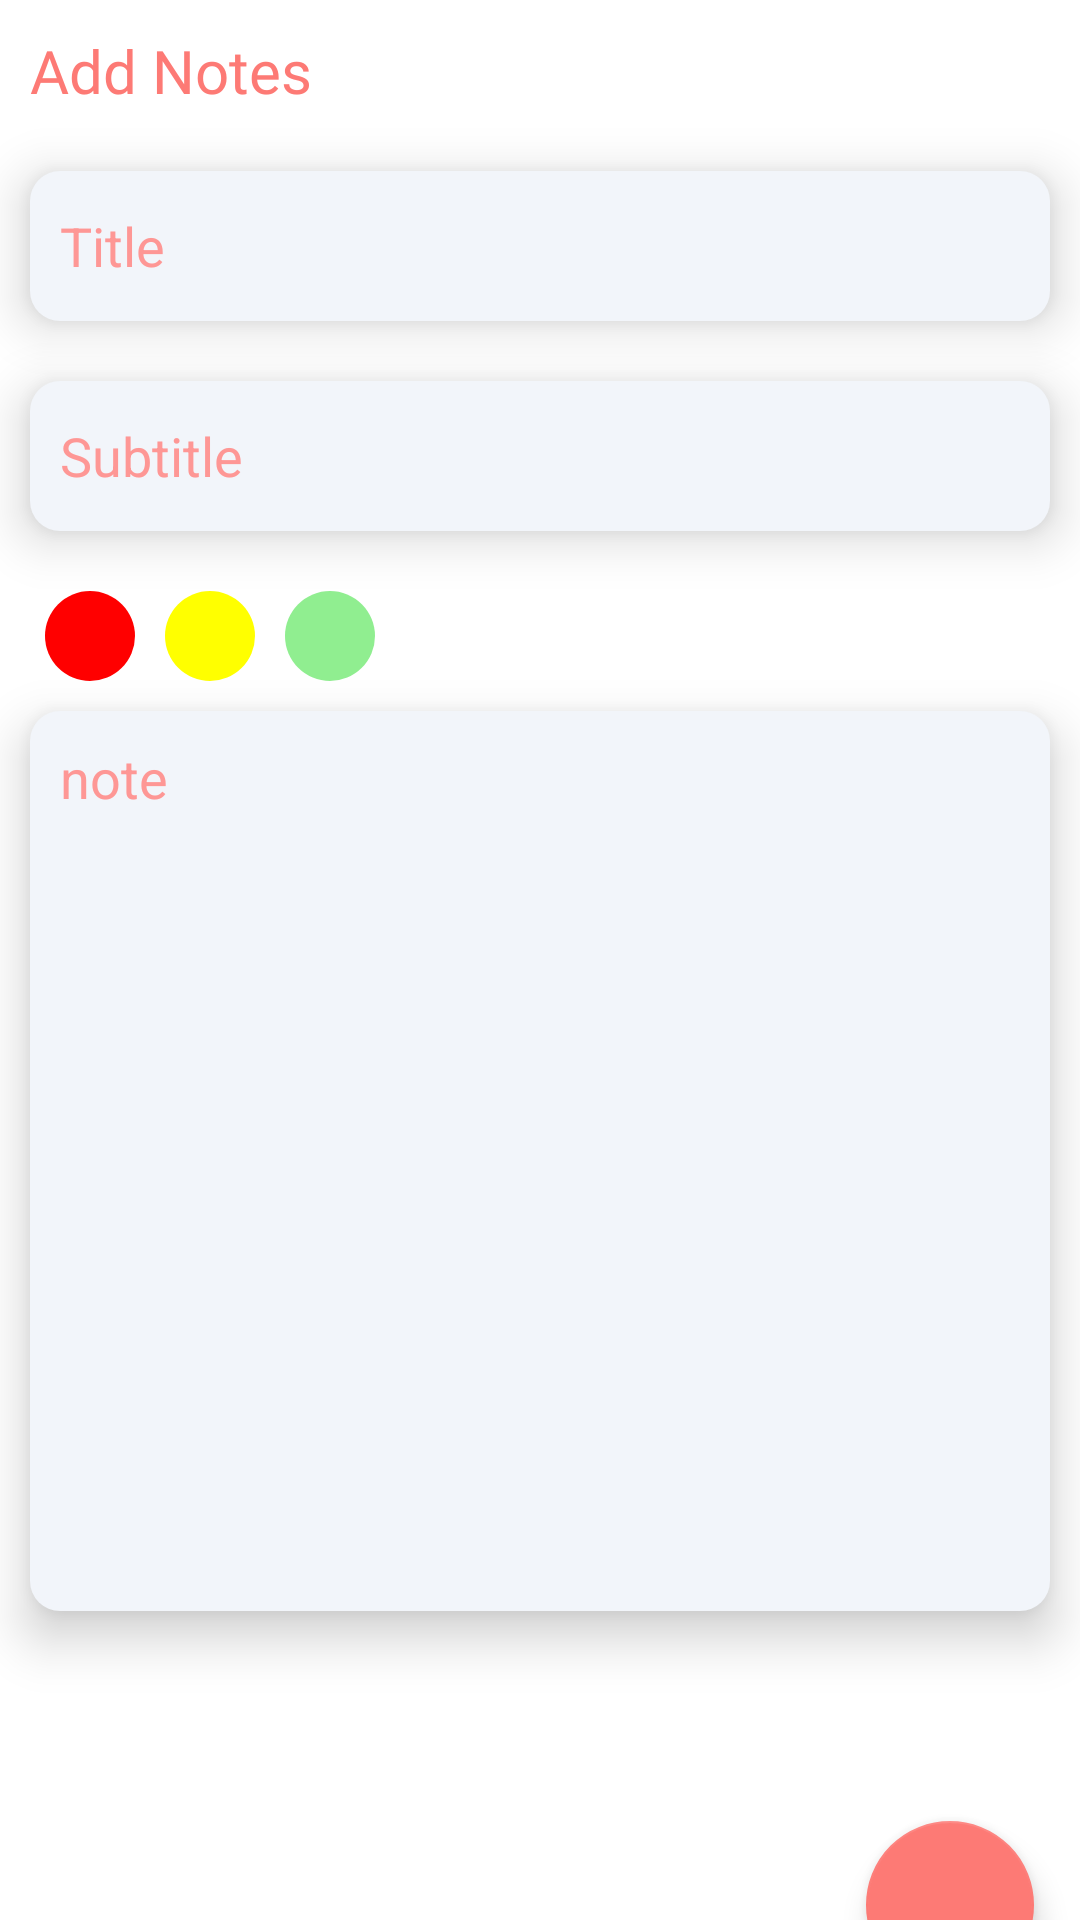

Screen size 1080px x 1920px. Icon name, then its center in pixels as (x,y):
dot: (90,636), (210,636), (330,636)
